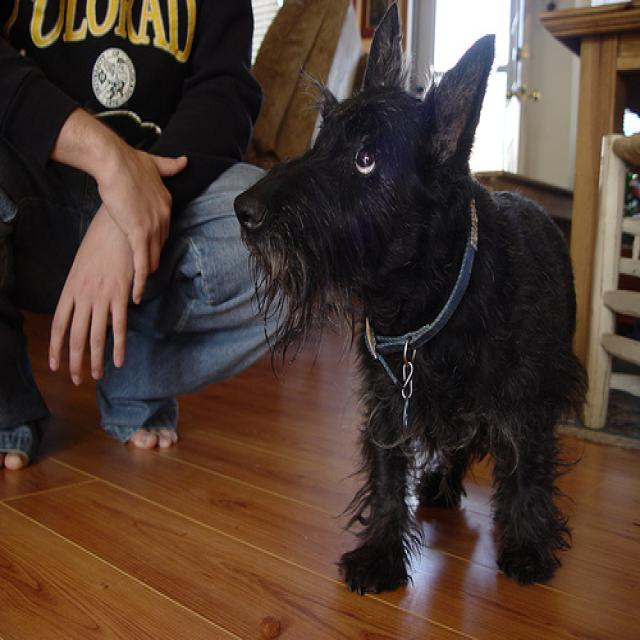dog-scottish_terrier: (224, 2, 579, 601)
